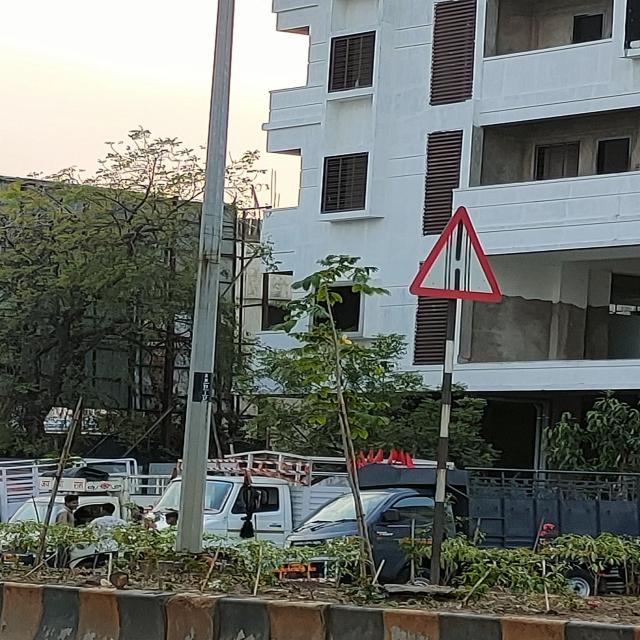ferry: (407, 202, 508, 302)
